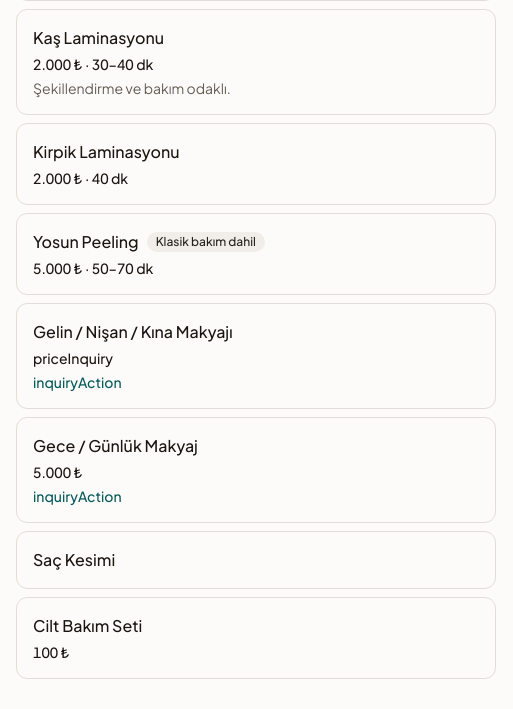
Scenario: inquiry services never enter booking › opens the information panel with contact actions, offers no booking button, never asks for staff or date
(page scrolled)
Click the button with test id "service-card" at (133, 332), box [16,303,496,409]
(page scrolled)
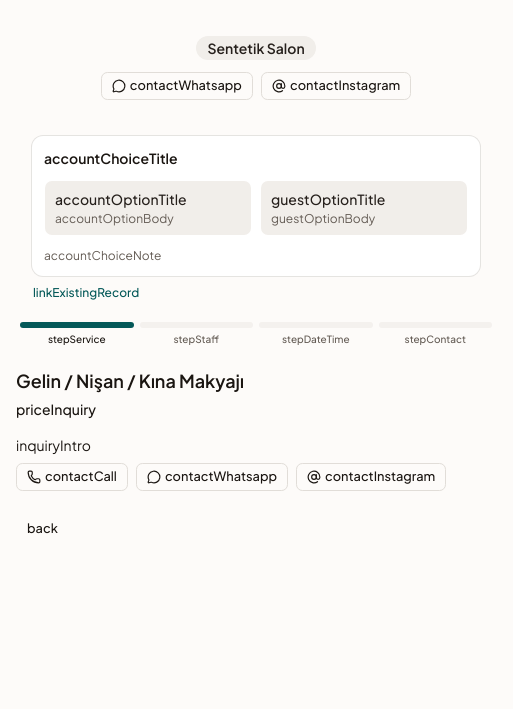
Expected: the text "inquiryIntro" is shown, [16,436,91,454]
